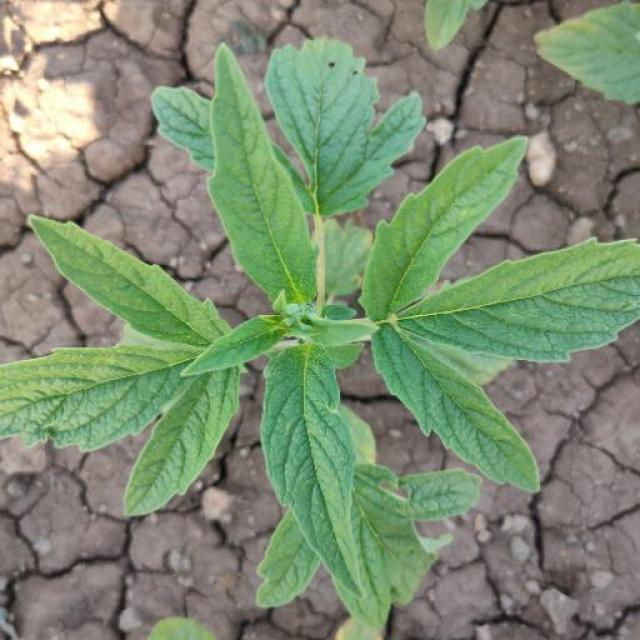crop: (32, 52, 638, 602)
